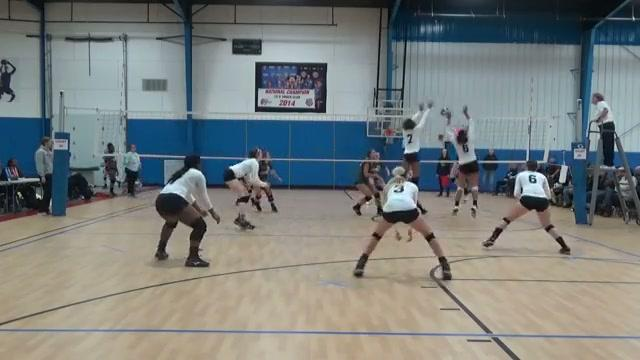ball: (440, 105, 451, 119)
